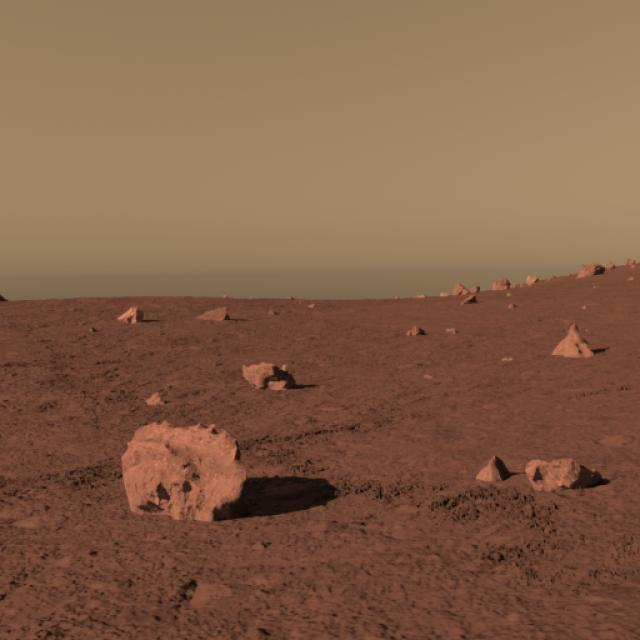rock: (118, 421, 250, 531), (522, 450, 585, 495)
